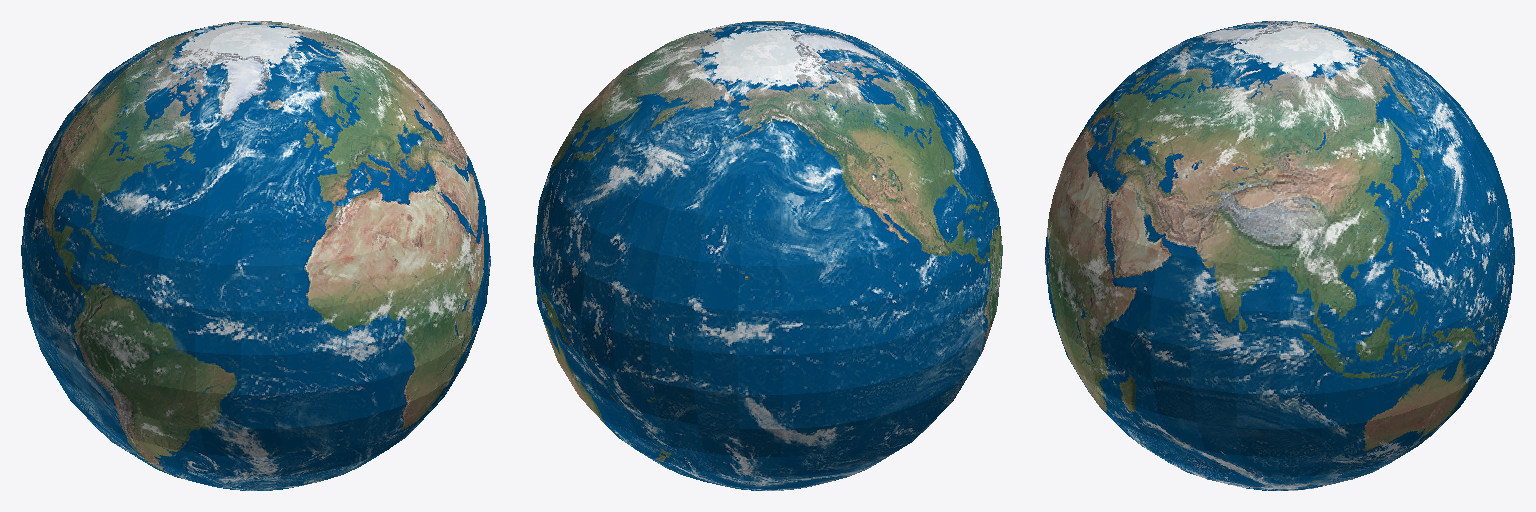
The picture shows the model from 3 angles: view 1: azimuth 30°, elevation 25°; view 2: azimuth 150°, elevation 25°; view 3: azimuth 270°, elevation 25°; orthographic projection.
Parts seen in each view (by area): view 1: メッシュ; view 2: メッシュ; view 3: メッシュ.
Part boxes in pixels (left/top/right/bottom): メッシュ: left=21, top=21, right=490, bottom=490; メッシュ: left=533, top=21, right=1002, bottom=490; メッシュ: left=1045, top=21, right=1514, bottom=490.
Bounding box in the file's own units: 252 × 252 × 252.
Materials: 1 (1 with a texture image).